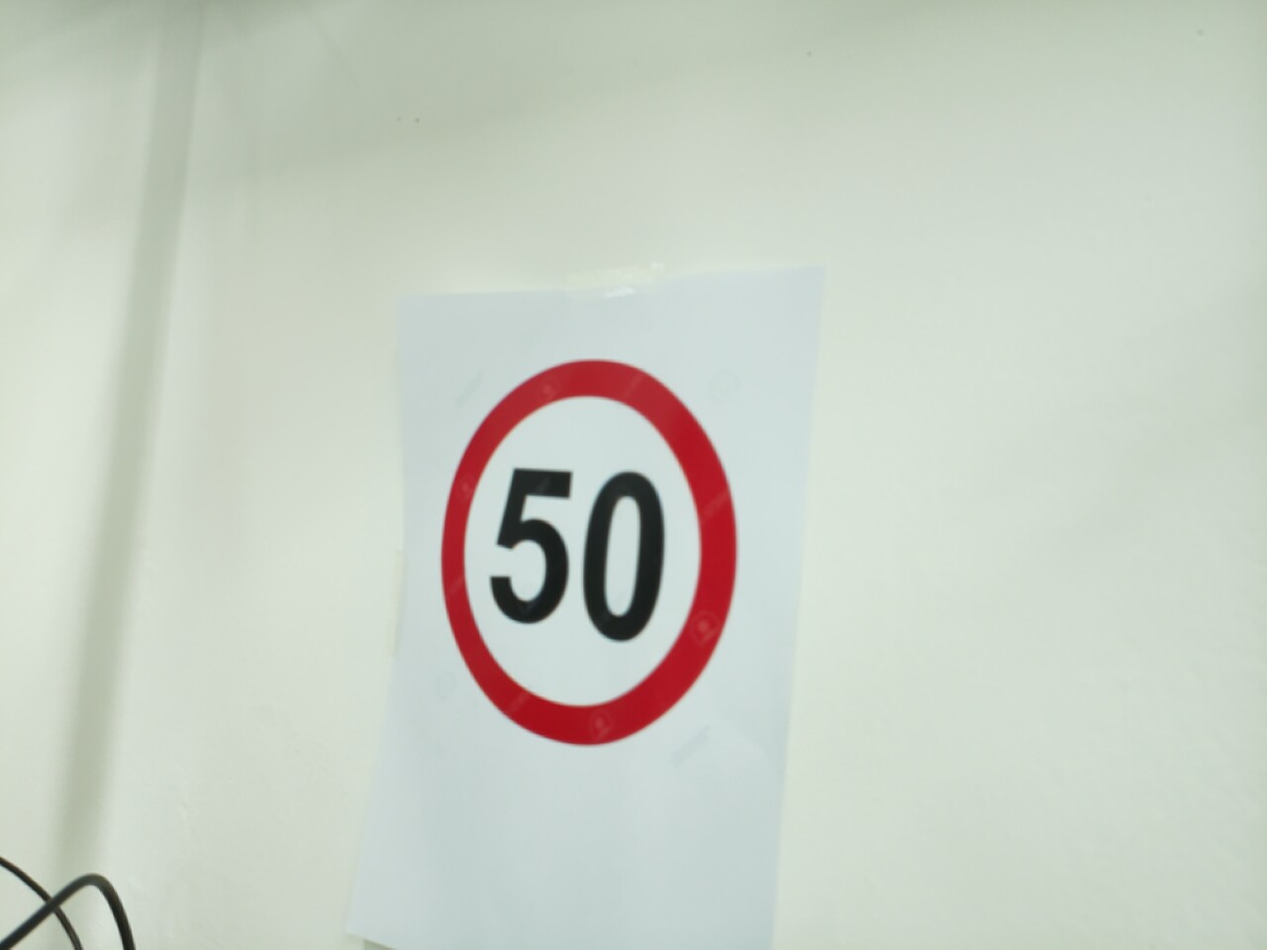speed_50: (431, 349, 746, 756)
